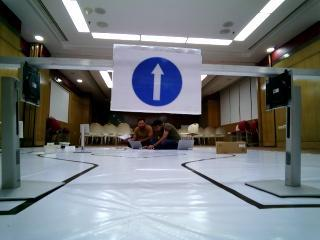straight: (112, 47, 203, 115)
